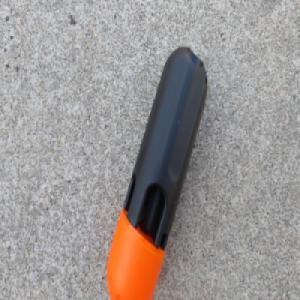PlasticPart: (106, 44, 208, 300)
